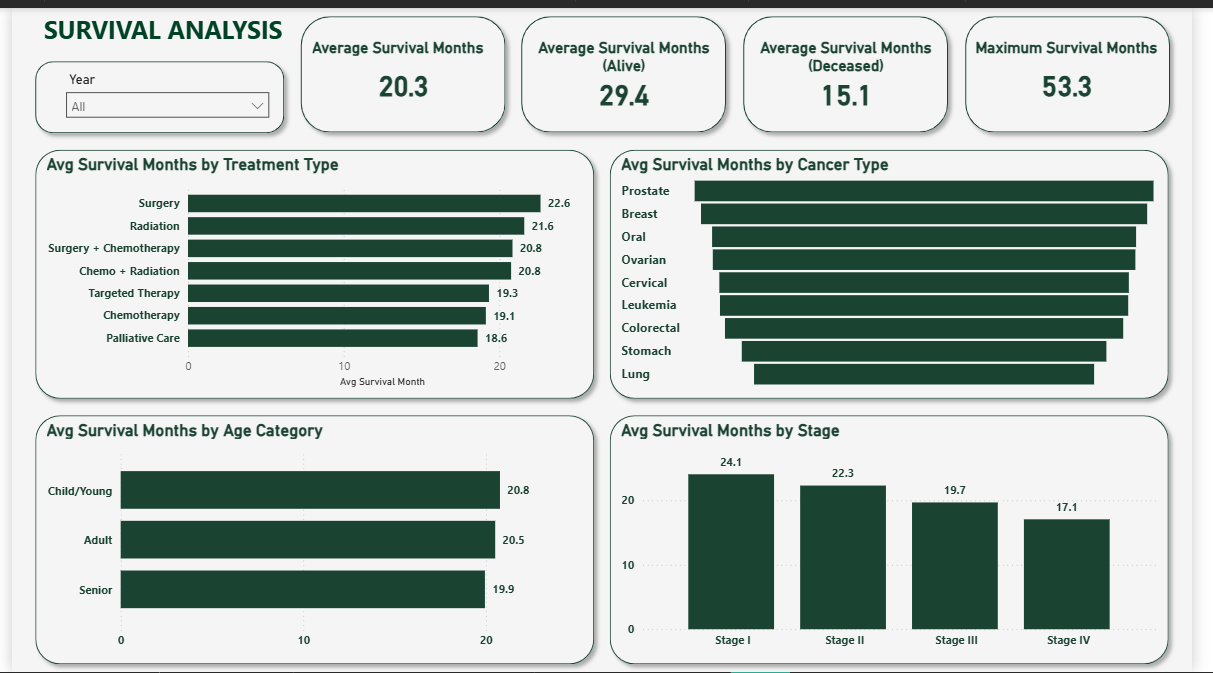

The page's visual inventory and layout, read from the dashboard file:
{"tool":"powerbi","page":{"name":"Survival Analysis ","canvas":[1280,720],"ordinal":2},"visuals":[{"type":"textbox","box":[16,0,304,64],"z":0},{"type":"shape","box":[304,0,240,144],"z":1000},{"type":"shape","box":[544,0,240,144],"z":2000},{"type":"shape","box":[784,0,240,144],"z":3000},{"type":"shape","box":[1024,0,240,144],"z":4000},{"type":"shape","box":[16,144,624,288],"z":5000},{"type":"shape","box":[640,144,624,288],"z":6000},{"type":"shape","box":[16,432,624,288],"z":7000},{"type":"shape","box":[640,432,624,288],"z":8000},{"type":"shape","box":[16,48,288,96],"z":9000},{"type":"slicer","fields":{"Values":["india_cancer_patients_2022_2025 Cleaned.Diagnosis_Date.Variation.Date Hierarchy.Year"]},"box":[48,64,240,64],"z":10000},{"type":"card","title":"Average Survival Months","fields":{"Values":["Measures (2).Avg Survival Month"]},"box":[320,32,208,80],"z":11000},{"type":"card","title":"Average Survival Months (Alive)","fields":{"Values":["Measures (2).Avg Survival(Alive)"]},"box":[560,32,208,80],"z":12000},{"type":"card","title":"Average Survival Months (Deceased)","fields":{"Values":["Measures (2).Avg Survival(Deceased)"]},"box":[800,32,208,80],"z":13000},{"type":"card","title":"Maximum Survival Months","fields":{"Values":["Measures (2).Max Survival"]},"box":[1040,32,208,80],"z":14000},{"type":"clusteredBarChart","title":"Avg Survival Months by Treatment Type","fields":{"Y":["Measures (2).Avg Survival Month"],"Category":["india_cancer_patients_2022_2025 Cleaned.Treatment_Type"]},"box":[32,160,592,256],"z":15000},{"type":"funnel","title":"Avg Survival Months by Cancer Type","fields":{"Category":["india_cancer_patients_2022_2025 Cleaned.Cancer_Type"],"Y":["Measures (2).Avg Survival Month"]},"box":[656,160,592,256],"z":16000},{"type":"clusteredBarChart","title":"Avg Survival Months by Age Category","fields":{"Category":["india_cancer_patients_2022_2025 Cleaned.Age Category"],"Y":["Measures (2).Avg Survival Month"]},"box":[32,448,592,256],"z":17000},{"type":"columnChart","title":"Avg Survival Months by Stage","fields":{"Category":["india_cancer_patients_2022_2025 Cleaned.Stage"],"Y":["Measures (2).Avg Survival Month"]},"box":[656,448,592,256],"z":18000}]}

Visuals, with their boxes in screenshot pixels (x1, y1, x2, y2), scaled from the page's 1280x720 canvas onto the 1213x673 screenshot:
textbox: select_region(15, 0, 303, 60)
shape: select_region(288, 0, 516, 135)
shape: select_region(516, 0, 743, 135)
shape: select_region(743, 0, 970, 135)
shape: select_region(970, 0, 1198, 135)
shape: select_region(15, 135, 606, 404)
shape: select_region(606, 135, 1198, 404)
shape: select_region(15, 404, 606, 672)
shape: select_region(606, 404, 1198, 672)
shape: select_region(15, 45, 288, 135)
slicer - india_cancer_patients_2022_2025 Cleaned.Diagnosis_Date.Variation.Date Hierarchy.Year: select_region(45, 60, 273, 120)
"Average Survival Months" card: select_region(303, 30, 500, 105)
"Average Survival Months (Alive)" card: select_region(531, 30, 728, 105)
"Average Survival Months (Deceased)" card: select_region(758, 30, 955, 105)
"Maximum Survival Months" card: select_region(986, 30, 1183, 105)
"Avg Survival Months by Treatment Type" clusteredBarChart: select_region(30, 150, 591, 389)
"Avg Survival Months by Cancer Type" funnel: select_region(622, 150, 1183, 389)
"Avg Survival Months by Age Category" clusteredBarChart: select_region(30, 419, 591, 658)
"Avg Survival Months by Stage" columnChart: select_region(622, 419, 1183, 658)
